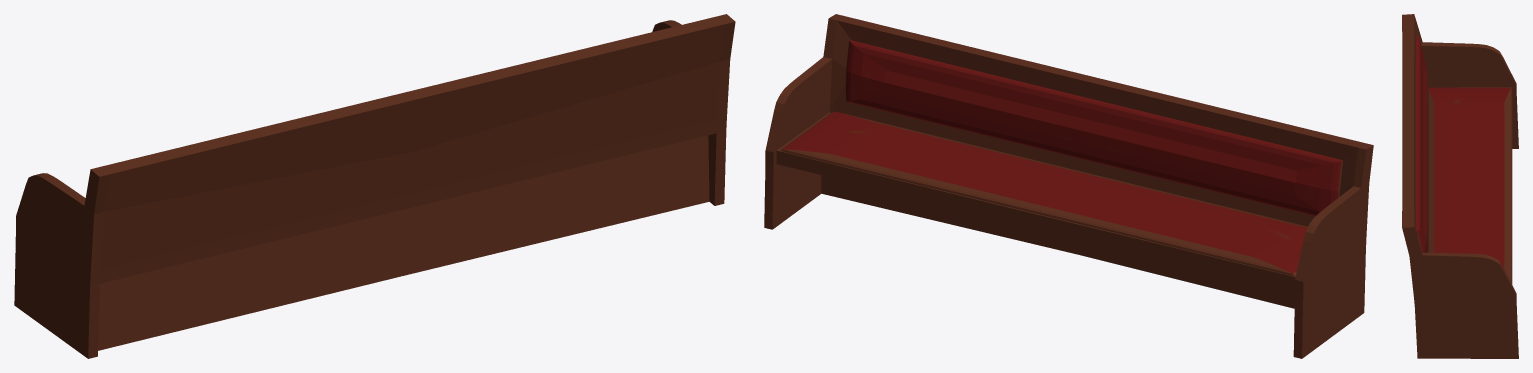
The model's file is Bench.obj.
The picture shows the model from 3 angles, left to right: view 1: azimuth 30°, elevation 25°; view 2: azimuth 150°, elevation 25°; view 3: azimuth 270°, elevation 25°; orthographic projection. The views are drawn at different scales.
Visible parts, largest first — view 1: Cube; view 2: Cube; view 3: Cube.
Part boxes in pixels (x1,y1,x2,y2): Cube: (14, 14, 735, 358); Cube: (764, 14, 1373, 358); Cube: (1402, 14, 1518, 358).
Size of the model in its own units: 6.02 by 1.73 by 1.39.
